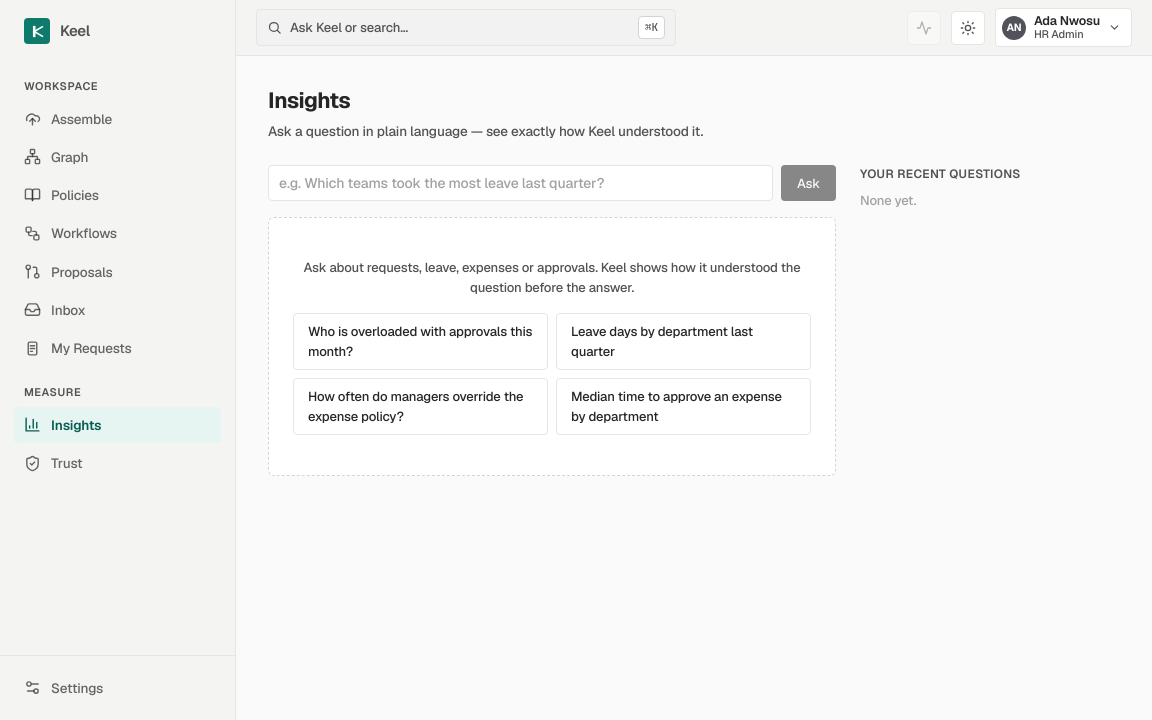
Test: /insights › asks a typed question and shows a clarifying question back instead of an answer
The width and height of the screenshot is (1152, 720).
Type "Leave last quarter?" into the field named "Ask a question" at (520, 183), box [268, 165, 773, 201]
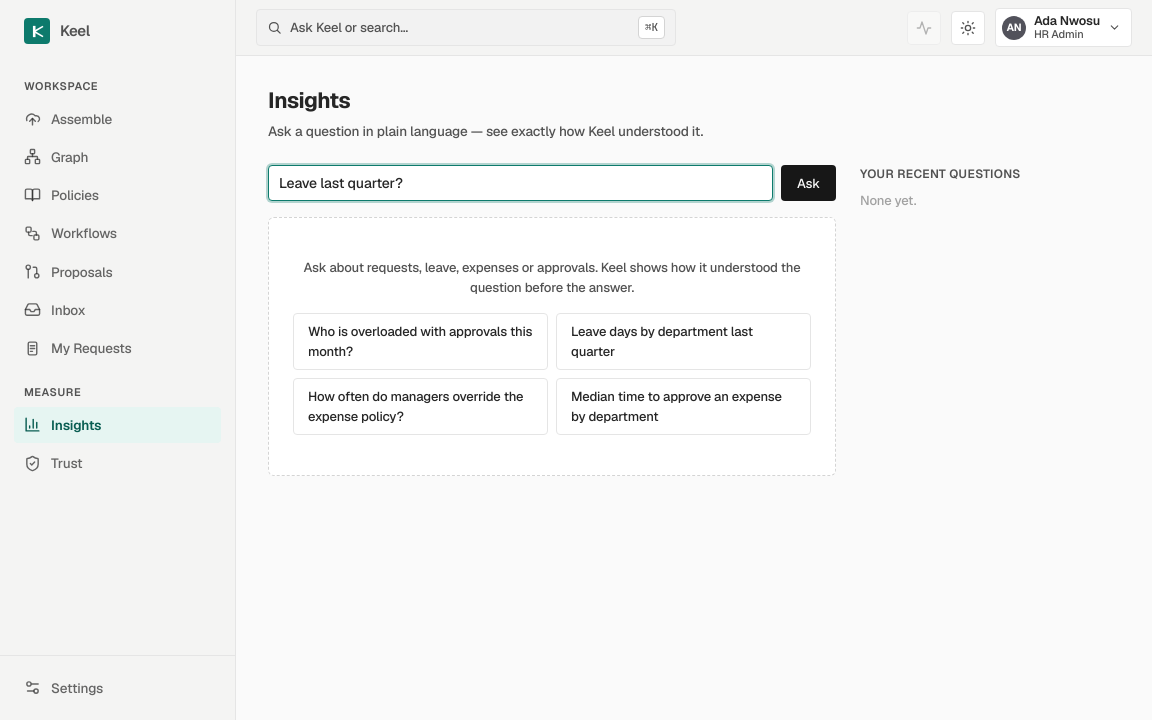
Click the button "Ask" at (808, 183), box [781, 165, 836, 201]
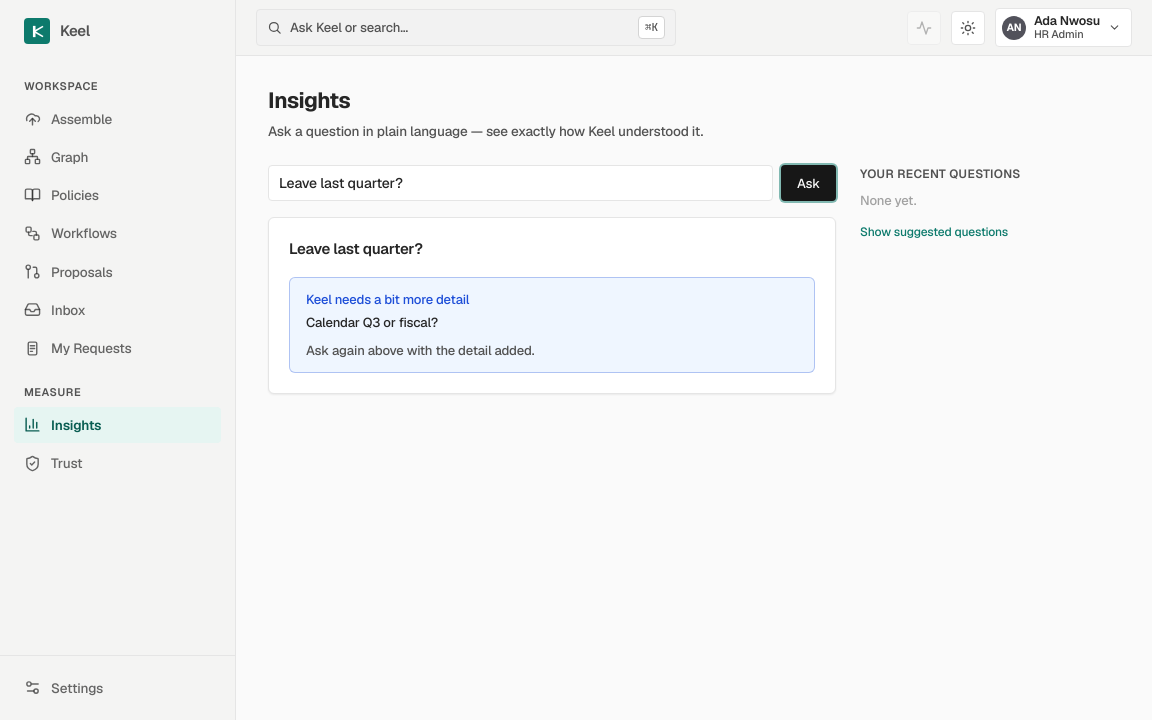
Now the element named "Answer" is shown, box [268, 217, 836, 394]
Now the text "Calendar Q3 or fiscal?" is shown, box [306, 314, 438, 331]
Now the text "Keel needs a bit more detail" is shown, box [306, 291, 469, 308]
